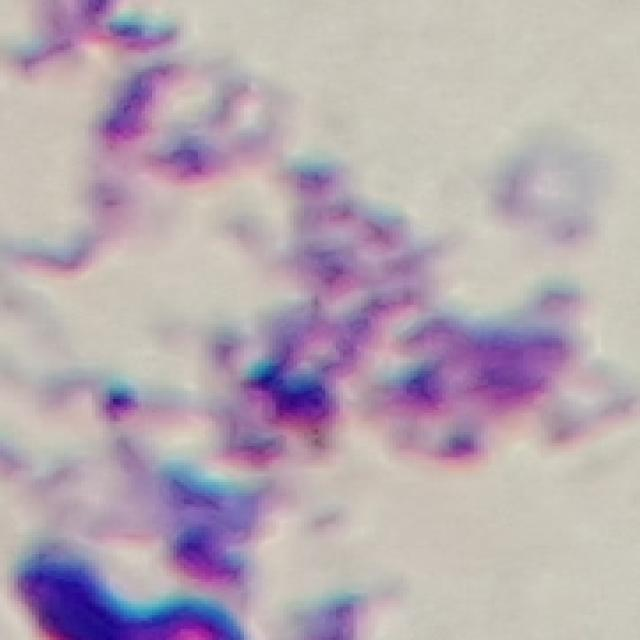non-sperm: (146, 148, 398, 533)
